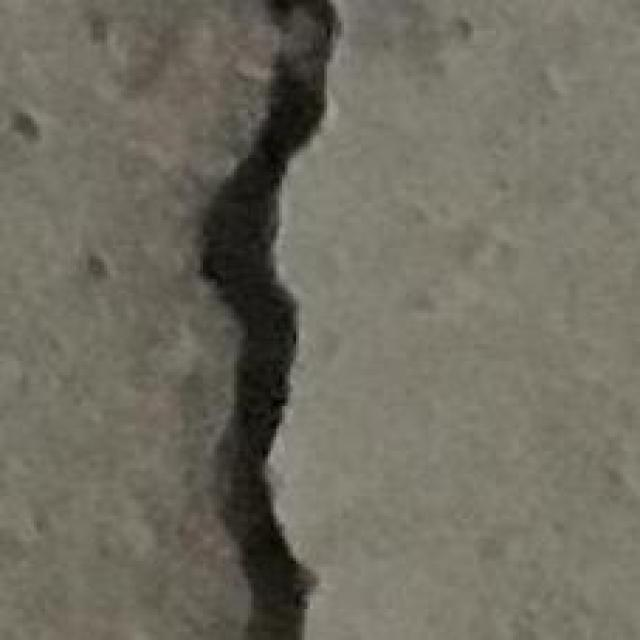Crack: (192, 0, 336, 637)
